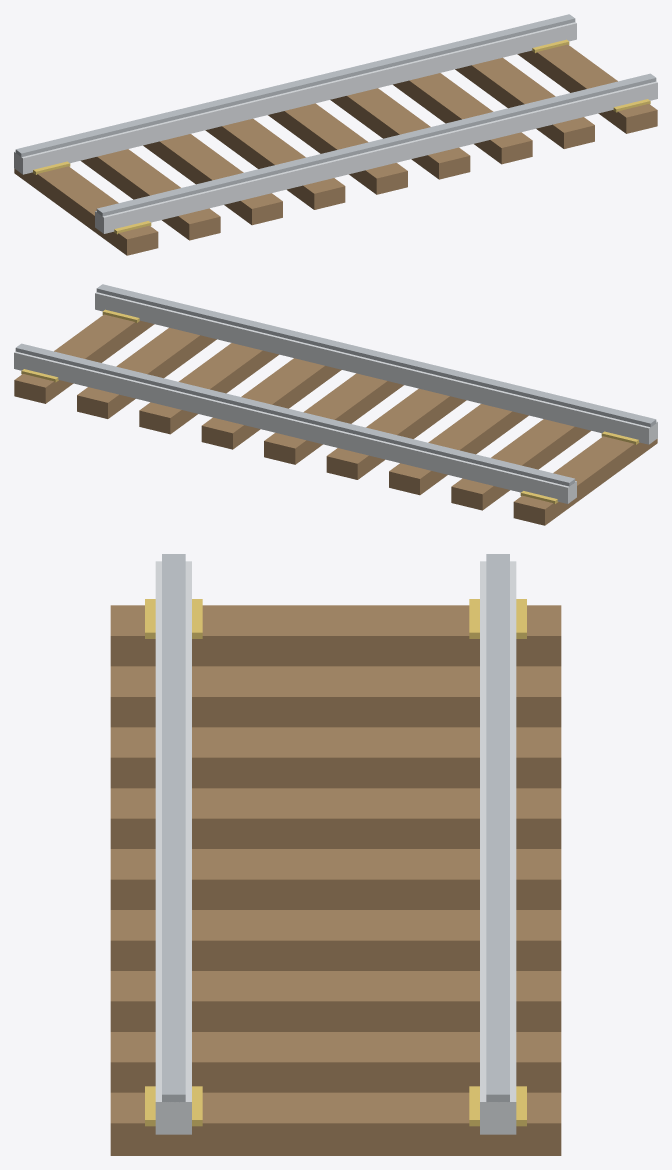
File: rail.glb
The picture shows the model from 3 angles, top to bottom: view 1: azimuth 30°, elevation 25°; view 2: azimuth 150°, elevation 25°; view 3: azimuth 270°, elevation 25°; orthographic projection. The views are drawn at different scales.
Parts seen in each view (by area): view 1: rail_runner_1, rail_runner_-1, rail_head_-1, rail_head_1, rail_tie_0, rail_tie_5, rail_tie_3, rail_tie_1, rail_tie_6, rail_tie_4, rail_tie_2, rail_tie_7 (+1 smaller); view 2: rail_runner_-1, rail_runner_1, rail_head_-1, rail_head_1, rail_tie_0, rail_tie_5, rail_tie_3, rail_tie_1, rail_tie_6, rail_tie_4, rail_tie_2, rail_tie_7 (+1 smaller); view 3: rail_tie_8, rail_tie_1, rail_tie_2, rail_tie_3, rail_tie_4, rail_tie_5, rail_tie_6, rail_tie_7, rail_tie_0, rail_head_-1, rail_head_1, rail_runner_-1 (+5 smaller).
Boxes of the visible parts, x1,y1,x2,y2 form: rail_runner_1: [14, 22, 576, 174]; rail_runner_-1: [95, 81, 657, 233]; rail_head_-1: [96, 73, 656, 216]; rail_head_1: [15, 14, 575, 157]; rail_tie_0: [14, 166, 158, 255]; rail_tie_5: [330, 88, 470, 179]; rail_tie_3: [205, 118, 345, 209]; rail_tie_1: [80, 149, 220, 240]; rail_tie_6: [393, 73, 532, 164]; rail_tie_4: [268, 103, 407, 194]; rail_tie_2: [143, 134, 282, 225]; rail_tie_7: [455, 57, 594, 148]; rail_runner_-1: [95, 292, 657, 444]; rail_runner_1: [14, 351, 576, 503]; rail_head_-1: [96, 284, 656, 427]; rail_head_1: [15, 343, 575, 486]; rail_tie_0: [513, 436, 657, 525]; rail_tie_5: [201, 358, 341, 449]; rail_tie_3: [326, 388, 466, 479]; rail_tie_1: [451, 419, 591, 510]; rail_tie_6: [139, 343, 278, 434]; rail_tie_4: [264, 373, 403, 464]; rail_tie_2: [389, 404, 528, 495]; rail_tie_7: [77, 327, 216, 418]; rail_tie_8: [110, 1092, 561, 1155]; rail_tie_1: [110, 666, 561, 727]; rail_tie_2: [110, 727, 561, 788]; rail_tie_3: [110, 788, 561, 848]; rail_tie_4: [110, 849, 561, 909]; rail_tie_5: [110, 910, 561, 970]; rail_tie_6: [110, 971, 561, 1031]; rail_tie_7: [110, 1032, 561, 1092]; rail_tie_0: [110, 605, 561, 666]; rail_head_-1: [162, 554, 185, 1102]; rail_head_1: [486, 554, 509, 1102]; rail_runner_-1: [155, 561, 191, 1134].
Size of the model in its own units: 3.55 by 0.2225 by 1.25.
